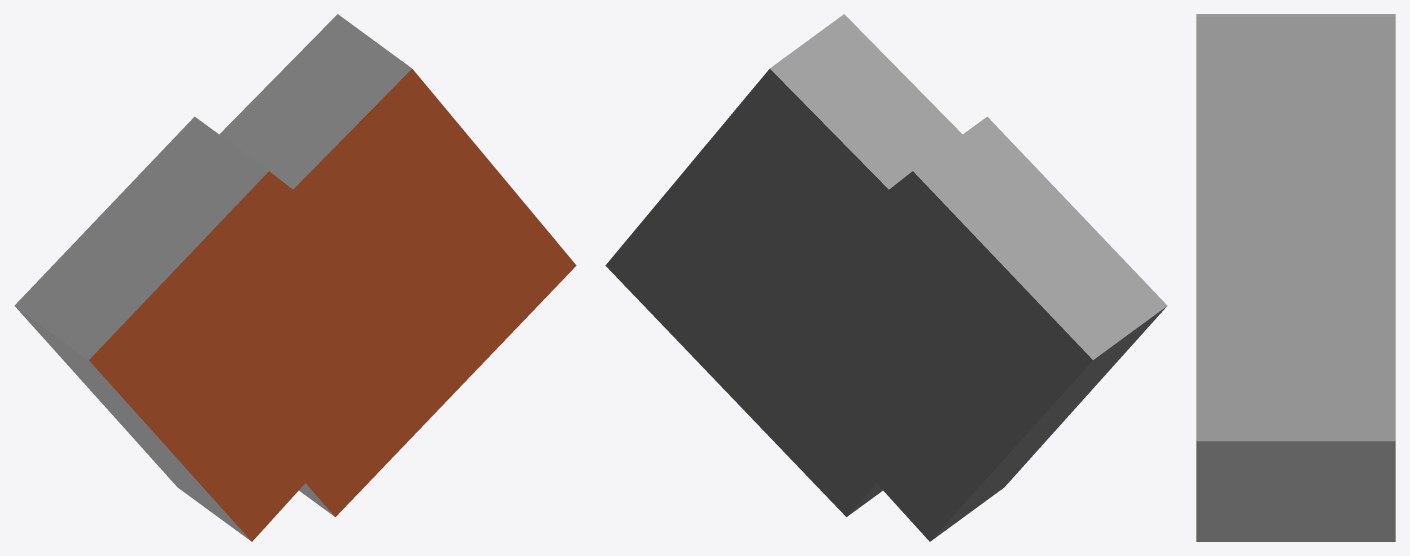
File: construction_2290_assumed_A_Casa_h6m.obj
3 views of the same model, side by side, from view 1: azimuth 30°, elevation 25°; view 2: azimuth 150°, elevation 25°; view 3: azimuth 270°, elevation 25° (orthographic). The views are drawn at different scales.
Parts seen in each view (by area): view 1: construction_2290_assumed_A_Casa; view 2: construction_2290_assumed_A_Casa; view 3: construction_2290_assumed_A_Casa.
Part boxes in pixels (x1,y1,x2,y2): construction_2290_assumed_A_Casa: [14, 14, 576, 541]; construction_2290_assumed_A_Casa: [605, 14, 1167, 541]; construction_2290_assumed_A_Casa: [1196, 14, 1395, 541].
Size of the model in its own units: 22.68 by 19.3 by 6.
